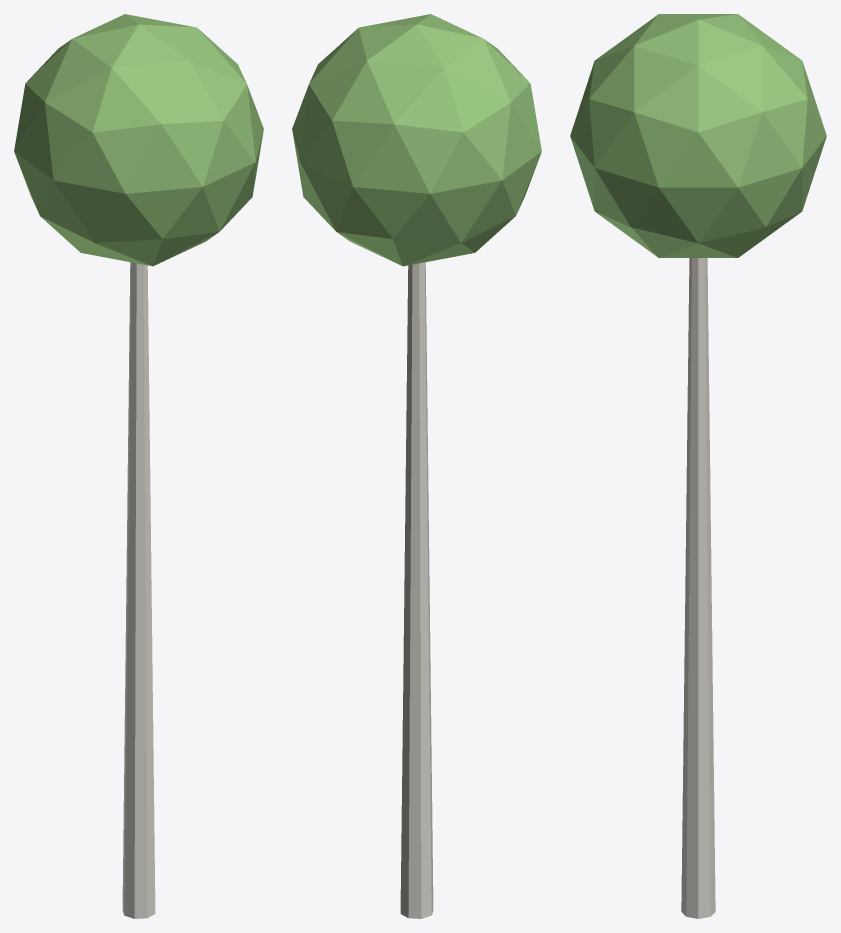
File: birch.glb
3 renders of one model, left to right at view 1: azimuth 30°, elevation 25°; view 2: azimuth 150°, elevation 25°; view 3: azimuth 270°, elevation 25°, orthographic.
Visible parts, largest first — view 1: Birch; view 2: Birch; view 3: Birch.
Part boxes in pixels (x1,y1,x2,y2): Birch: (14,14,263,918); Birch: (292,14,541,918); Birch: (570,14,826,918).
Bounding box in the file's own units: 0.5706 × 2.3 × 0.6.
